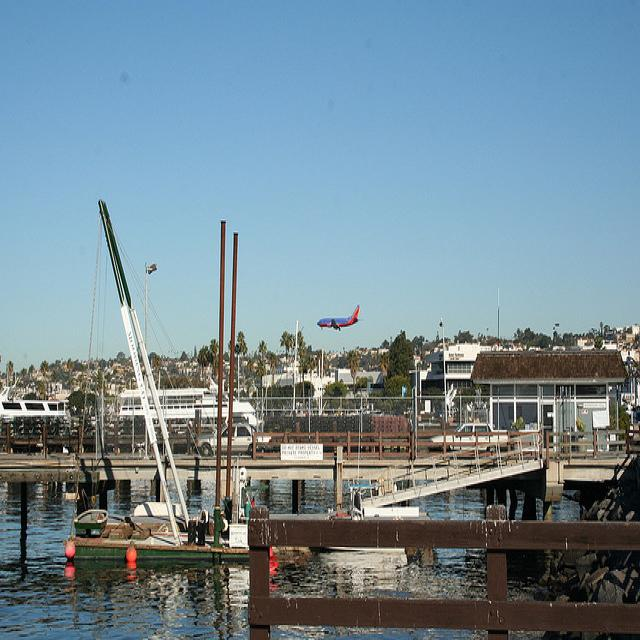Vehicle: (426, 421, 511, 459), (194, 418, 271, 458)
